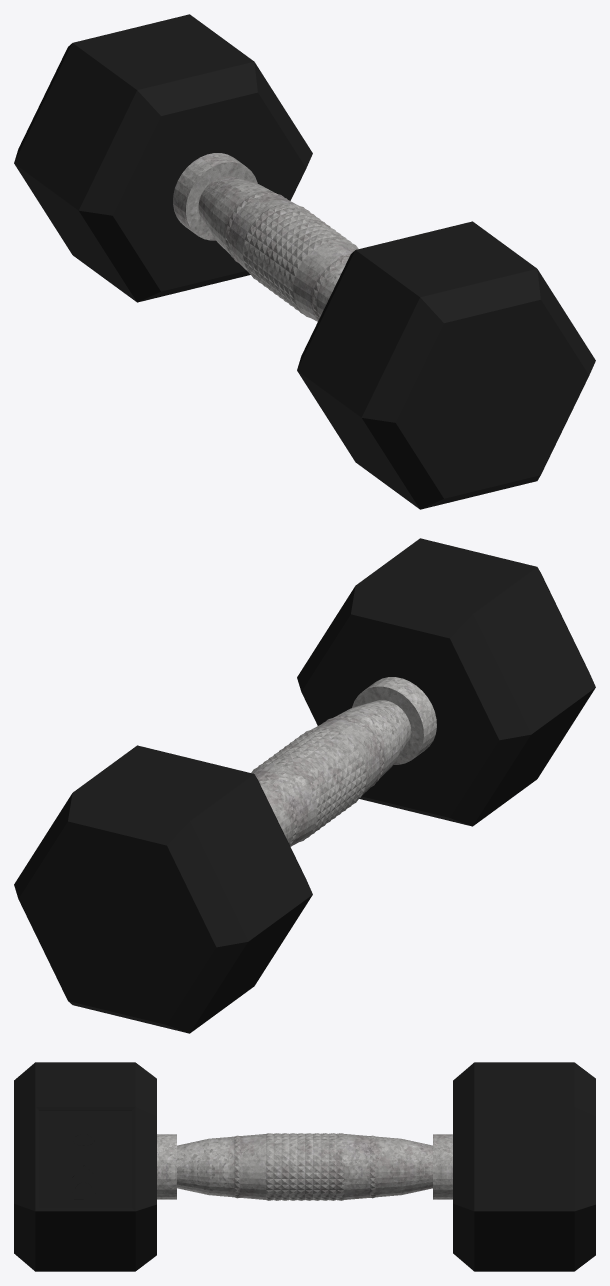
Rendered from dumbbell.glb.
3 renders of one model, top to bottom at view 1: azimuth 30°, elevation 25°; view 2: azimuth 150°, elevation 25°; view 3: azimuth 270°, elevation 25°, orthographic. The views are drawn at different scales.
Parts seen in each view (by area): view 1: Circle.001_0; view 2: Circle.001_0; view 3: Circle.001_0.
Part boxes in pixels (box(x1,y1,x2,y2)): Circle.001_0: box(14, 14, 595, 509); Circle.001_0: box(14, 538, 595, 1033); Circle.001_0: box(14, 1062, 595, 1271).
Bounding box in the file's own units: 6.34 × 5.49 × 17.58.
2 materials, 1 textured.
